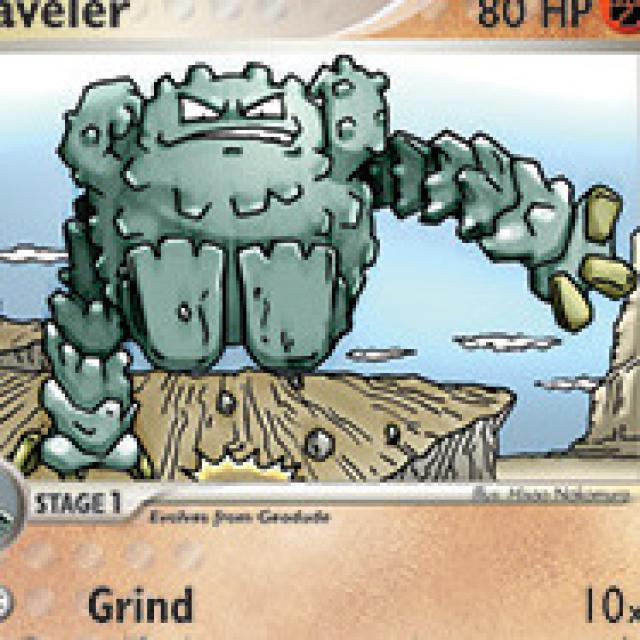Graveler: (38, 60, 551, 378)
